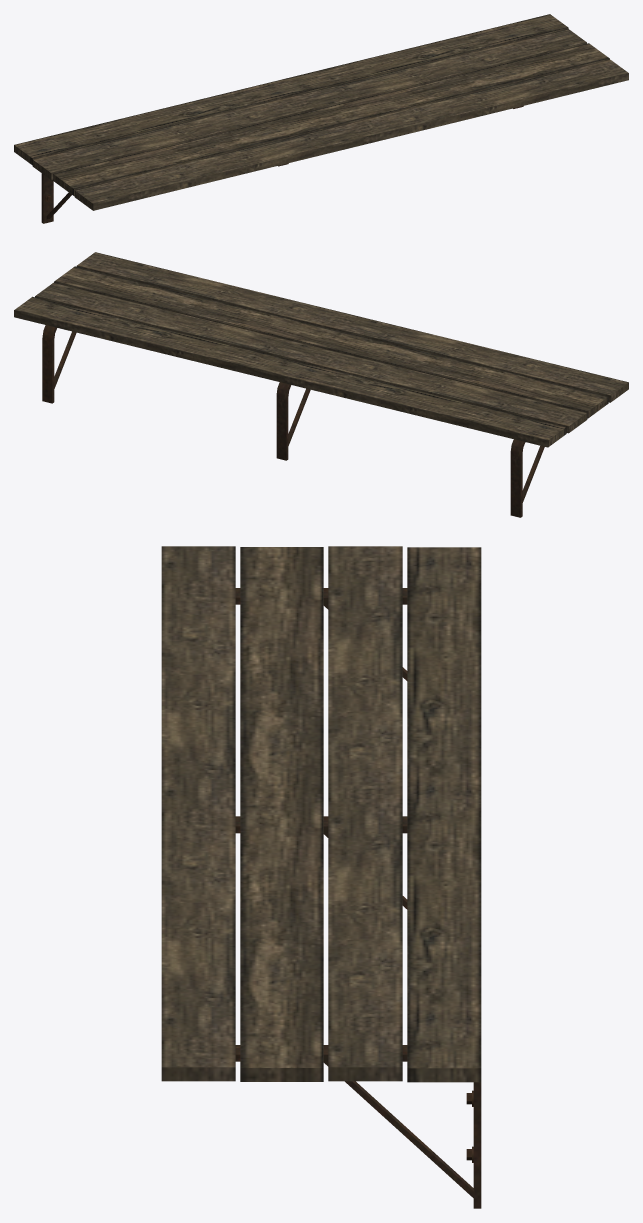
The model's file is hanging_shelf_mx_3_1.dae.
The picture shows the model from 3 angles, top to bottom: view 1: azimuth 30°, elevation 25°; view 2: azimuth 150°, elevation 25°; view 3: azimuth 270°, elevation 25°; orthographic projection. The views are drawn at different scales.
Parts seen in each view (by area): view 1: hanging_shelf_mx_3_1; view 2: hanging_shelf_mx_3_1; view 3: hanging_shelf_mx_3_1.
Boxes of the visible parts, bbox=[...] form: hanging_shelf_mx_3_1: bbox=[14, 14, 628, 223]; hanging_shelf_mx_3_1: bbox=[14, 252, 628, 517]; hanging_shelf_mx_3_1: bbox=[161, 546, 481, 1208].
Size of the model in its own units: 1.6 by 0.414 by 0.24.
Materials: 2 (2 with a texture image).
